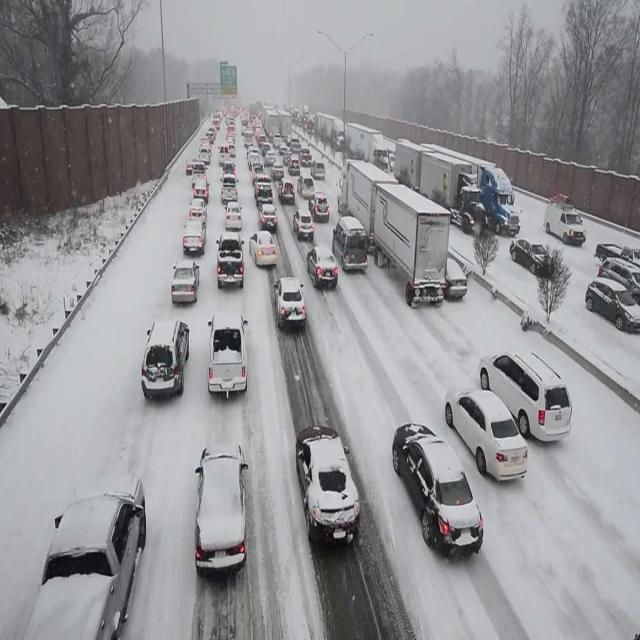Car: (30, 452, 164, 640), (392, 423, 483, 558), (480, 350, 571, 444), (295, 424, 362, 550), (444, 386, 525, 482), (193, 442, 250, 576), (142, 316, 190, 400), (207, 312, 250, 398), (585, 278, 639, 332), (272, 275, 307, 333), (596, 256, 640, 301), (216, 233, 246, 289), (510, 239, 552, 277), (170, 258, 201, 306), (306, 245, 338, 289), (443, 254, 468, 302), (249, 229, 278, 269), (181, 219, 207, 259), (308, 192, 330, 223), (293, 210, 314, 241), (259, 203, 279, 233), (224, 202, 243, 232), (296, 174, 316, 202), (188, 198, 208, 226), (254, 178, 273, 206), (192, 175, 210, 204), (278, 178, 296, 205), (221, 180, 238, 206), (191, 160, 208, 181), (310, 160, 326, 180), (298, 148, 312, 168), (271, 162, 285, 182), (222, 163, 237, 181), (199, 146, 211, 166), (288, 156, 300, 176), (218, 150, 230, 167), (186, 158, 198, 175), (336, 132, 346, 151)
Truck: (372, 187, 451, 303), (416, 153, 485, 225), (338, 159, 392, 227), (482, 160, 523, 238), (341, 121, 390, 164), (388, 142, 428, 186), (264, 110, 278, 136), (280, 113, 293, 141)
Van: (331, 215, 368, 275), (544, 198, 586, 245)
